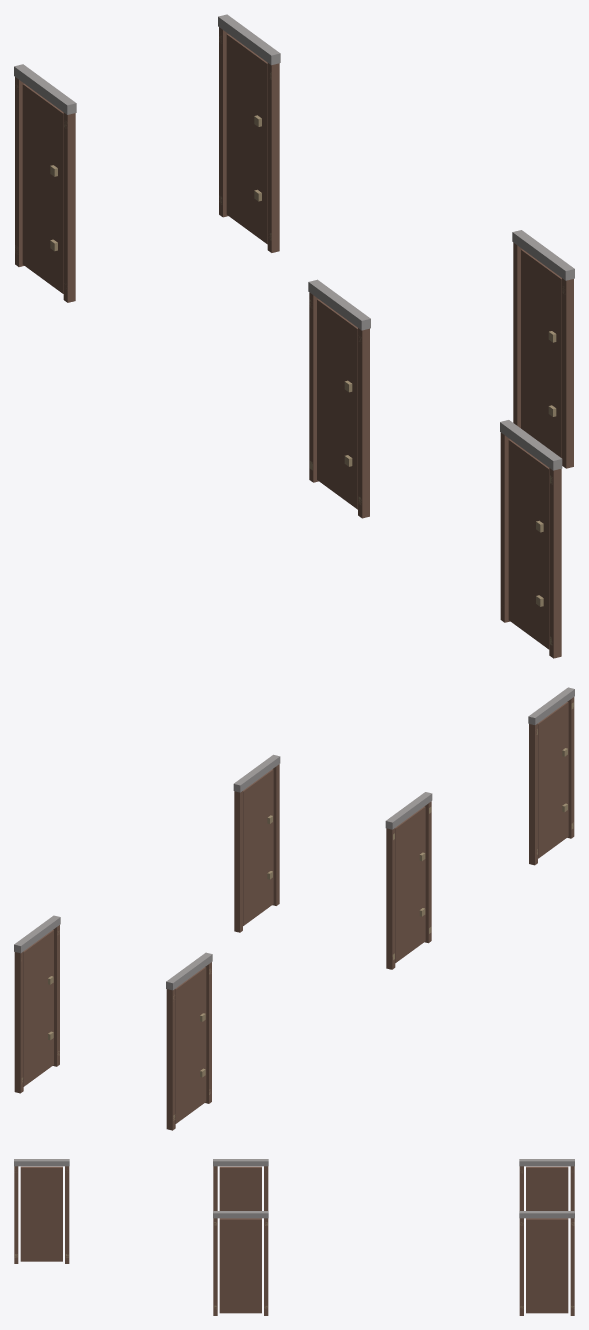
Rendered from door_window_floor_00.glb.
3 views of the same model, one above another, from view 1: azimuth 30°, elevation 25°; view 2: azimuth 150°, elevation 25°; view 3: azimuth 270°, elevation 25° (orthographic). The views are drawn at different scales.
Parts seen in each view (by area): view 1: fe-f0-room1-door-0-door-leaf, fe-f0-hall-door-4-door-leaf, fe-f0-room2-door-0-door-leaf, fe-f0-room3-door-0-door-leaf, fe-f0-room4-door-0-door-leaf, fe-f0-room1-door-0-carved-jamb-1, fe-f0-room2-door-0-carved-jamb-1, fe-f0-hall-door-4-carved-jamb-1, fe-f0-room4-door-0-carved-jamb-1, fe-f0-room3-door-0-carved-jamb-1, fe-f0-hall-door-4-carved-jamb--1, fe-f0-room1-door-0-carved-jamb--1 (+8 smaller); view 2: fe-f0-room1-door-0-door-leaf, fe-f0-hall-door-4-door-leaf, fe-f0-room2-door-0-door-leaf, fe-f0-room4-door-0-door-leaf, fe-f0-room3-door-0-door-leaf, fe-f0-room2-door-0-carved-jamb--1, fe-f0-room1-door-0-carved-jamb--1, fe-f0-room3-door-0-carved-jamb--1, fe-f0-room4-door-0-carved-jamb--1, fe-f0-hall-door-4-carved-jamb--1, fe-f0-room4-door-0-carved-jamb-1, fe-f0-hall-door-4-carved-jamb-1 (+8 smaller); view 3: fe-f0-room2-door-0-door-leaf, fe-f0-room4-door-0-door-leaf, fe-f0-hall-door-4-door-leaf, fe-f0-room1-door-0-door-leaf, fe-f0-room3-door-0-door-leaf, fe-f0-room2-door-0-carved-jamb--1, fe-f0-room2-door-0-carved-jamb-1, fe-f0-room4-door-0-carved-jamb--1, fe-f0-hall-door-4-carved-jamb-1, fe-f0-room4-door-0-carved-jamb-1, fe-f0-hall-door-4-carved-jamb--1, fe-f0-room1-door-0-header (+8 smaller).
Boxes of the visible parts, x1,y1,x2,y2 form: fe-f0-room1-door-0-door-leaf: (22, 83, 63, 293); fe-f0-hall-door-4-door-leaf: (508, 439, 549, 649); fe-f0-room2-door-0-door-leaf: (226, 34, 267, 244); fe-f0-room3-door-0-door-leaf: (317, 299, 357, 509); fe-f0-room4-door-0-door-leaf: (521, 249, 561, 458); fe-f0-room1-door-0-carved-jamb-1: (63, 112, 75, 302); fe-f0-room2-door-0-carved-jamb-1: (267, 63, 279, 252); fe-f0-hall-door-4-carved-jamb-1: (549, 468, 561, 658); fe-f0-room4-door-0-carved-jamb-1: (562, 278, 573, 468); fe-f0-room3-door-0-carved-jamb-1: (358, 328, 369, 518); fe-f0-hall-door-4-carved-jamb--1: (500, 432, 509, 622); fe-f0-room1-door-0-carved-jamb--1: (15, 77, 24, 266); fe-f0-room1-door-0-door-leaf: (175, 967, 206, 1123); fe-f0-hall-door-4-door-leaf: (538, 702, 568, 858); fe-f0-room2-door-0-door-leaf: (23, 930, 53, 1086); fe-f0-room4-door-0-door-leaf: (243, 769, 273, 925); fe-f0-room3-door-0-door-leaf: (395, 806, 425, 962); fe-f0-room2-door-0-carved-jamb--1: (14, 951, 23, 1093); fe-f0-room1-door-0-carved-jamb--1: (166, 989, 175, 1130); fe-f0-room3-door-0-carved-jamb--1: (386, 828, 395, 969); fe-f0-room4-door-0-carved-jamb--1: (234, 791, 242, 932); fe-f0-hall-door-4-carved-jamb--1: (529, 723, 537, 865); fe-f0-room4-door-0-carved-jamb-1: (272, 764, 279, 905); fe-f0-hall-door-4-carved-jamb-1: (567, 697, 574, 838); fe-f0-room2-door-0-door-leaf: (526, 1218, 568, 1313); fe-f0-room4-door-0-door-leaf: (219, 1218, 261, 1313); fe-f0-hall-door-4-door-leaf: (20, 1166, 62, 1261); fe-f0-room1-door-0-door-leaf: (526, 1166, 568, 1210); fe-f0-room3-door-0-door-leaf: (219, 1166, 261, 1210); fe-f0-room2-door-0-carved-jamb--1: (570, 1218, 574, 1315); fe-f0-room2-door-0-carved-jamb-1: (519, 1218, 523, 1315); fe-f0-room4-door-0-carved-jamb--1: (264, 1218, 268, 1315); fe-f0-hall-door-4-carved-jamb-1: (14, 1166, 18, 1263); fe-f0-room4-door-0-carved-jamb-1: (213, 1218, 217, 1315); fe-f0-hall-door-4-carved-jamb--1: (65, 1166, 69, 1263); fe-f0-room1-door-0-header: (519, 1159, 574, 1166).
Size of the model in its own units: 2.57 by 2.26 by 11.16.
